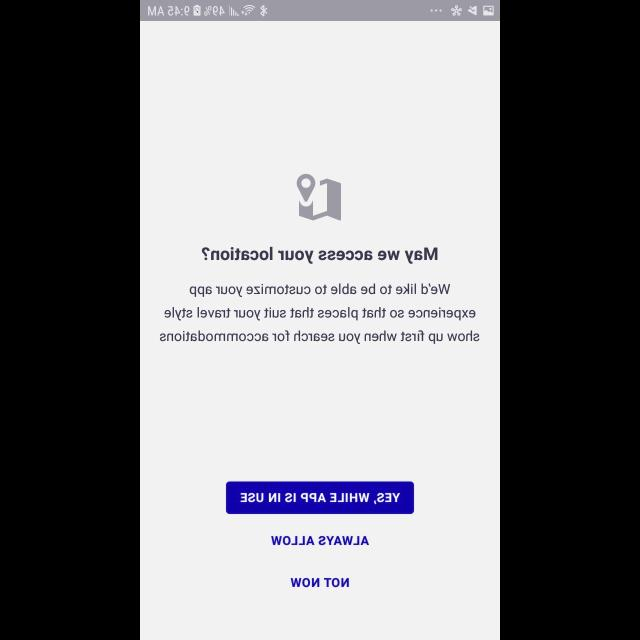icon: (296, 174, 340, 222)
text: (160, 284, 480, 344), (202, 247, 438, 265), (271, 535, 369, 545), (290, 577, 350, 587)
textbutton: (226, 482, 414, 514)
uppertaskbar: (140, 1, 500, 22)
